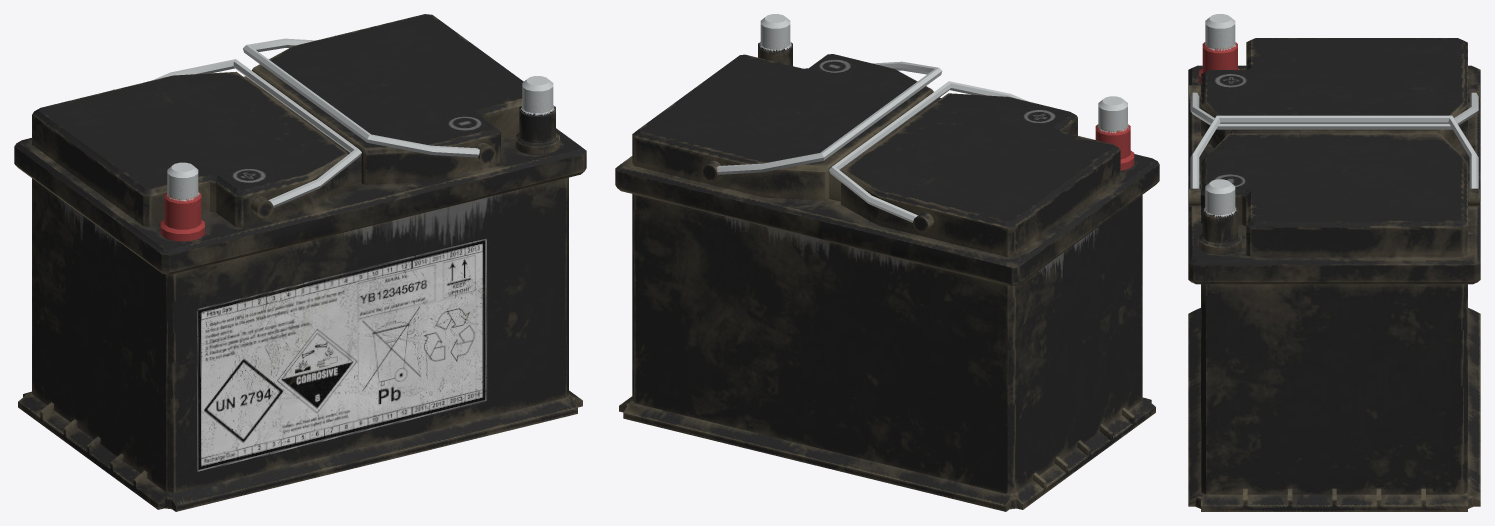
Rendered from Sodium Battery .fbx.
3 renders of one model, left to right at view 1: azimuth 30°, elevation 25°; view 2: azimuth 150°, elevation 25°; view 3: azimuth 270°, elevation 25°, orthographic. The views are drawn at different scales.
Visible parts, largest first — view 1: Mesh_Default_0; view 2: Mesh_Default_0; view 3: Mesh_Default_0.
Boxes of the visible parts, box(x1,y1,x2,y2) form: Mesh_Default_0: box(14, 14, 586, 511); Mesh_Default_0: box(615, 14, 1159, 511); Mesh_Default_0: box(1188, 14, 1480, 511).
Bounding box in the file's own units: 4615 × 3392 × 2879.
1 material, 1 textured.
